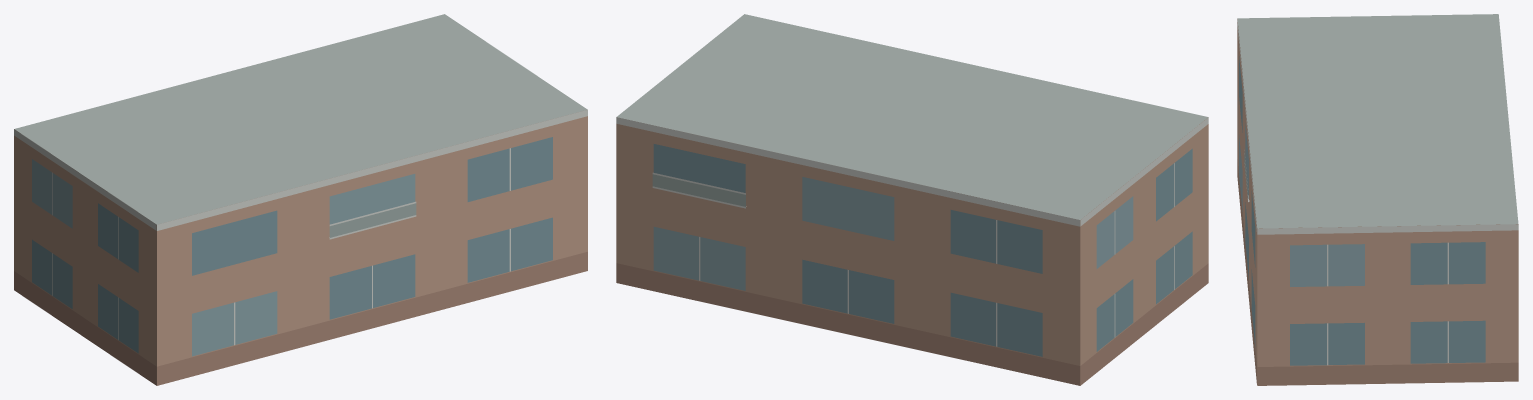
File: survey-upis-32705994.glb
The picture shows the model from 3 angles, left to right: view 1: azimuth 30°, elevation 25°; view 2: azimuth 150°, elevation 25°; view 3: azimuth 270°, elevation 25°; orthographic projection. The views are drawn at different scales.
Parts seen in each view (by area): view 1: survey-upis-32705994.tmp; view 2: survey-upis-32705994.tmp; view 3: survey-upis-32705994.tmp.
Boxes of the visible parts, x1,y1,x2,y2 form: survey-upis-32705994.tmp: (14, 14, 587, 385); survey-upis-32705994.tmp: (616, 14, 1208, 385); survey-upis-32705994.tmp: (1237, 14, 1518, 385).
Bounding box in the file's own units: 17.84 × 6.1 × 9.88.
